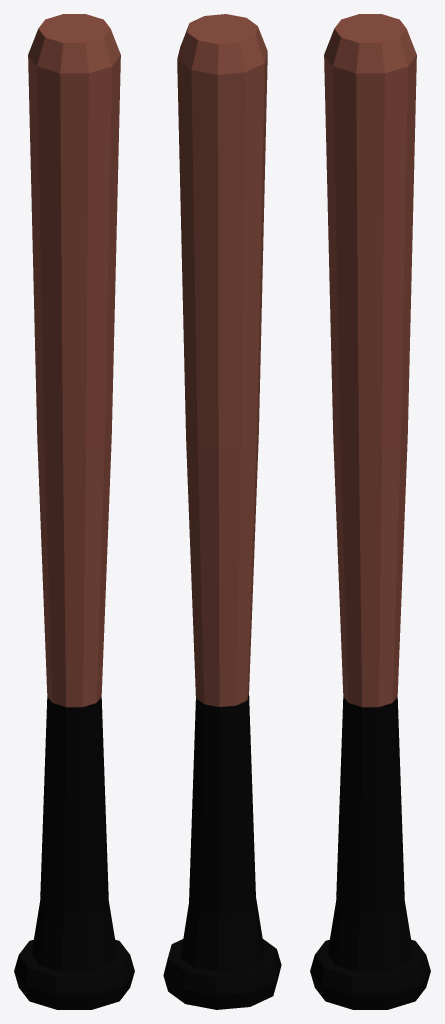
The model's file is bate.fbx.
3 renders of one model, left to right at view 1: azimuth 90°, elevation 25°; view 2: azimuth 210°, elevation 25°; view 3: azimuth 270°, elevation 25°, orthographic.
Parts seen in each view (by area): view 1: Cylinder.017; view 2: Cylinder.017; view 3: Cylinder.017.
Boxes of the visible parts, <box> form: Cylinder.017: <box>14,14,134,1009</box>; Cylinder.017: <box>163,14,281,1009</box>; Cylinder.017: <box>310,14,430,1009</box>.
Size of the model in its own units: 18.6 by 171 by 19.56.
